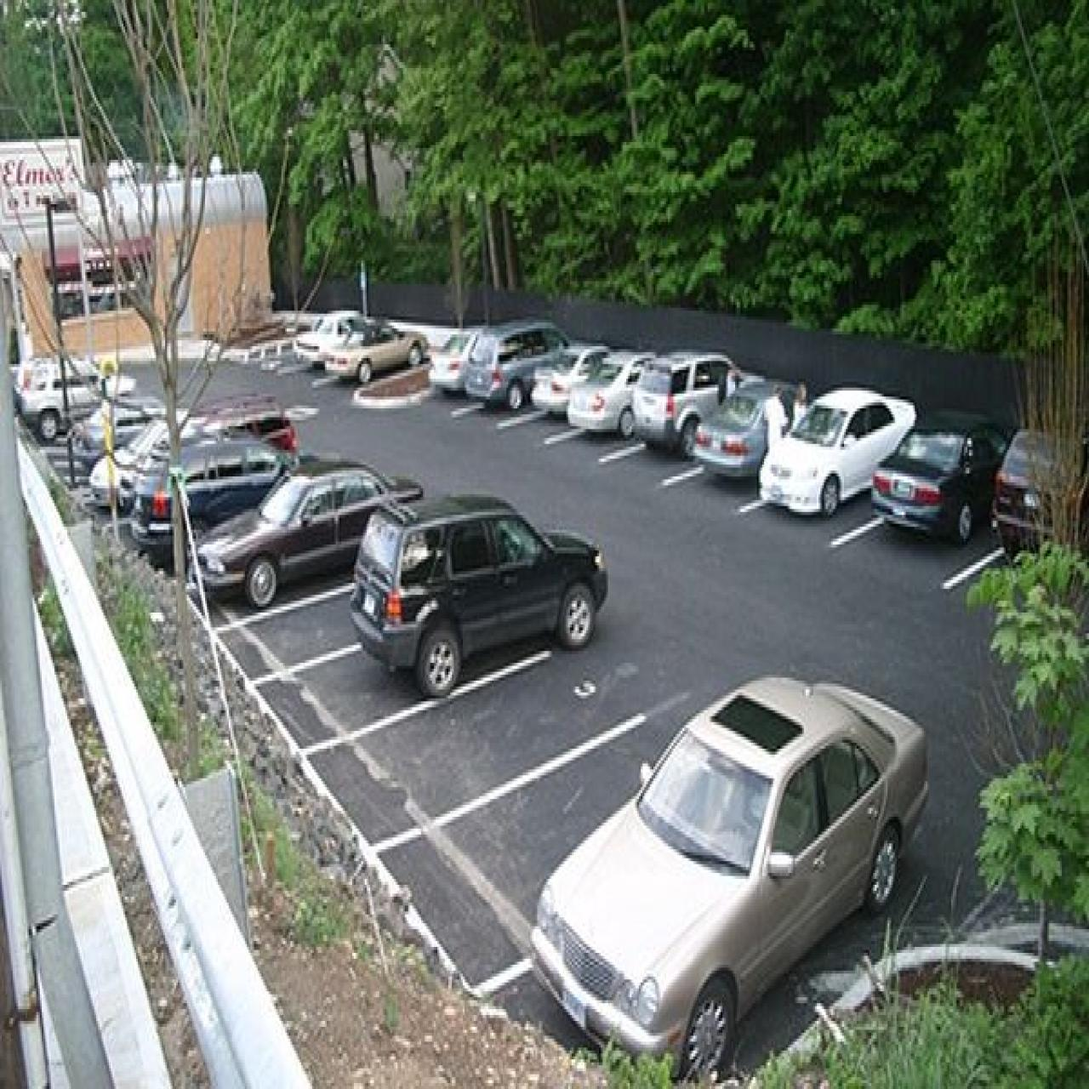cars: (553, 738, 919, 1088), (297, 555, 555, 736), (853, 411, 1009, 592), (211, 469, 410, 608), (960, 423, 1089, 630), (756, 380, 897, 561), (145, 432, 310, 559), (113, 412, 258, 539), (691, 360, 803, 517), (623, 351, 740, 481), (79, 410, 210, 519), (557, 340, 652, 470), (447, 317, 551, 432), (17, 348, 122, 457), (510, 330, 603, 448), (59, 401, 162, 493), (328, 315, 422, 398), (426, 315, 488, 422), (294, 306, 354, 374)
empty: (404, 691, 682, 954), (359, 644, 593, 830), (244, 536, 406, 675), (255, 300, 324, 374)
